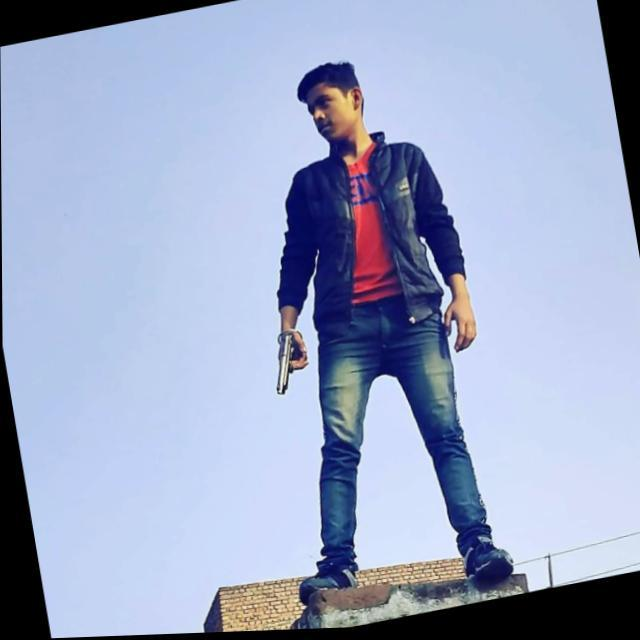weapon: (260, 327, 316, 402)
